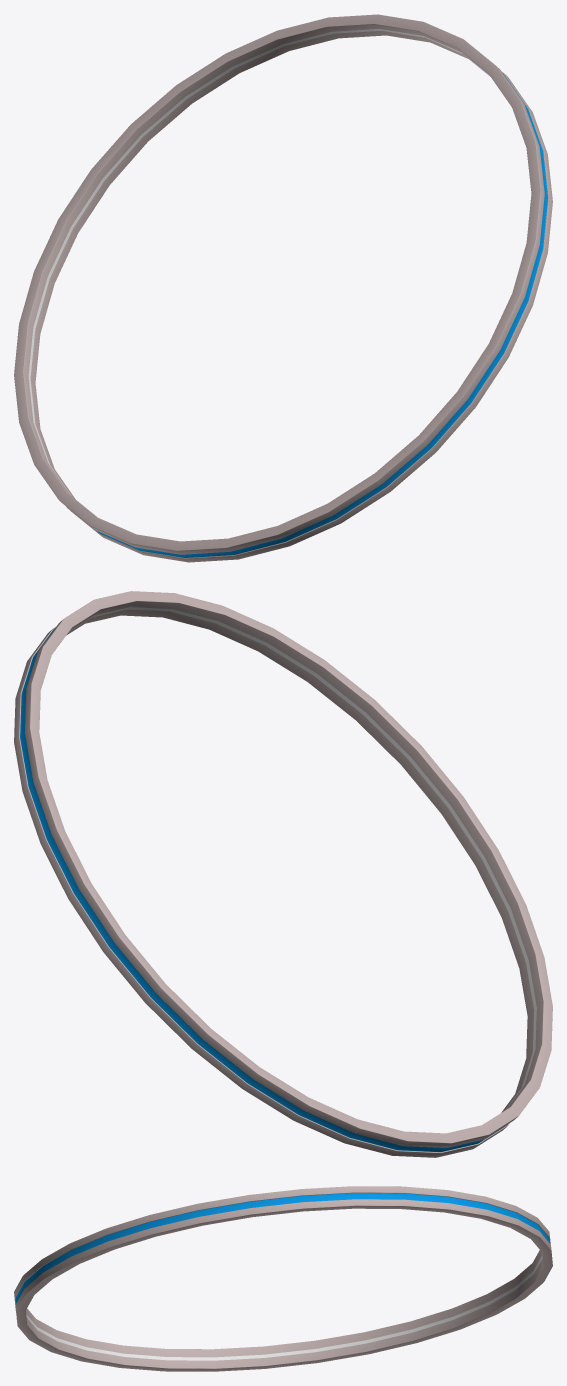
File: ring.fbx
3 renders of one model, top to bottom at view 1: azimuth 30°, elevation 25°; view 2: azimuth 150°, elevation 25°; view 3: azimuth 270°, elevation 25°, orthographic. The views are drawn at different scales.
Parts seen in each view (by area): view 1: Circle; view 2: Circle; view 3: Circle.
Part boxes in pixels (x1,y1,x2,y2): Circle: (14,14,552,562); Circle: (14,591,552,1157); Circle: (14,1186,552,1371).
Bounding box in the file's own units: 155 × 140 × 199.
